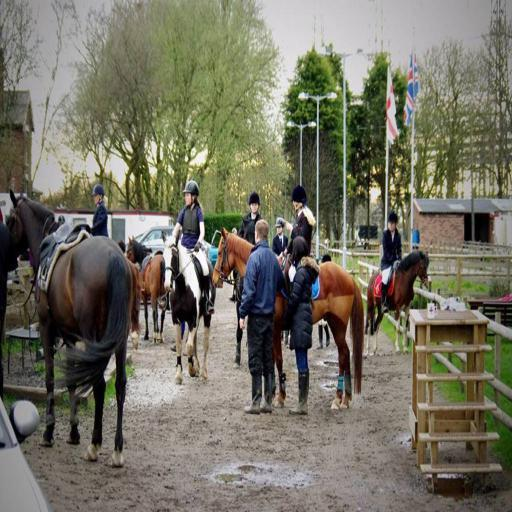horse: (2, 186, 134, 470), (210, 226, 364, 412), (163, 232, 217, 384), (364, 248, 430, 358), (124, 232, 164, 348), (230, 214, 260, 368)
